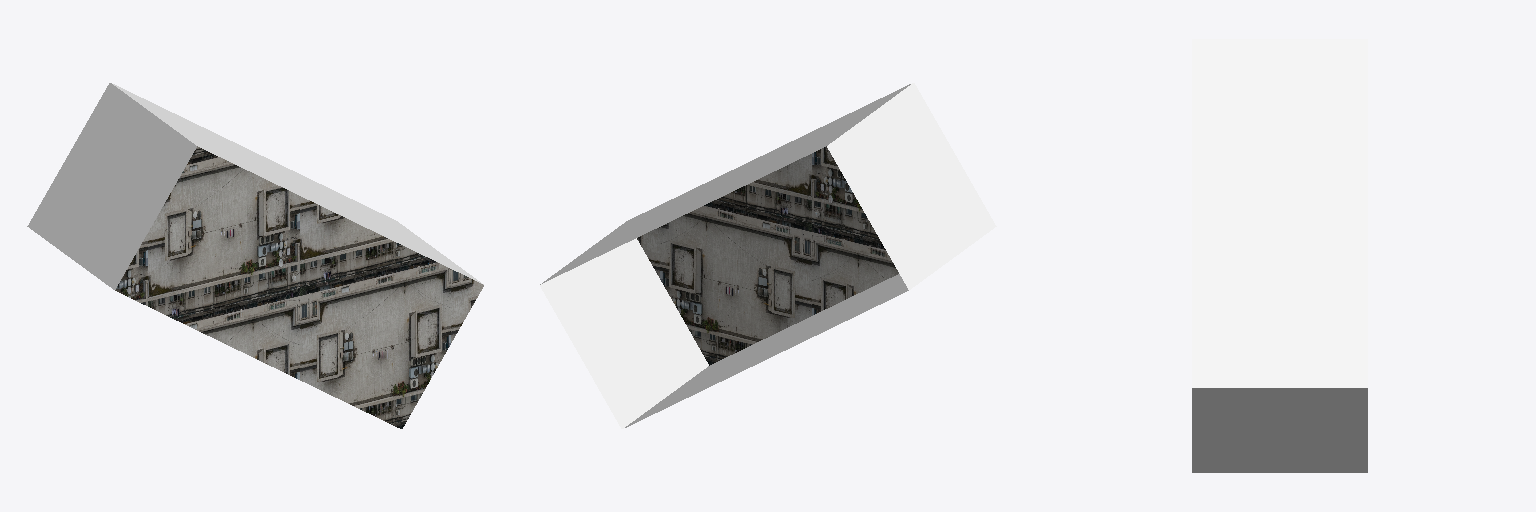
The picture shows the model from 3 angles: view 1: azimuth 30°, elevation 25°; view 2: azimuth 150°, elevation 25°; view 3: azimuth 270°, elevation 25°; orthographic projection.
Parts seen in each view (by area): view 1: Building; view 2: Building; view 3: Building.
Boxes of the visible parts, x1=… form: Building: x1=27, y1=83, x2=483, y2=428; Building: x1=540, y1=83, x2=996, y2=428; Building: x1=1192, y1=39, x2=1367, y2=472.
Size of the model in its own units: 14.63 by 12.61 by 6.
2 materials, 1 textured.